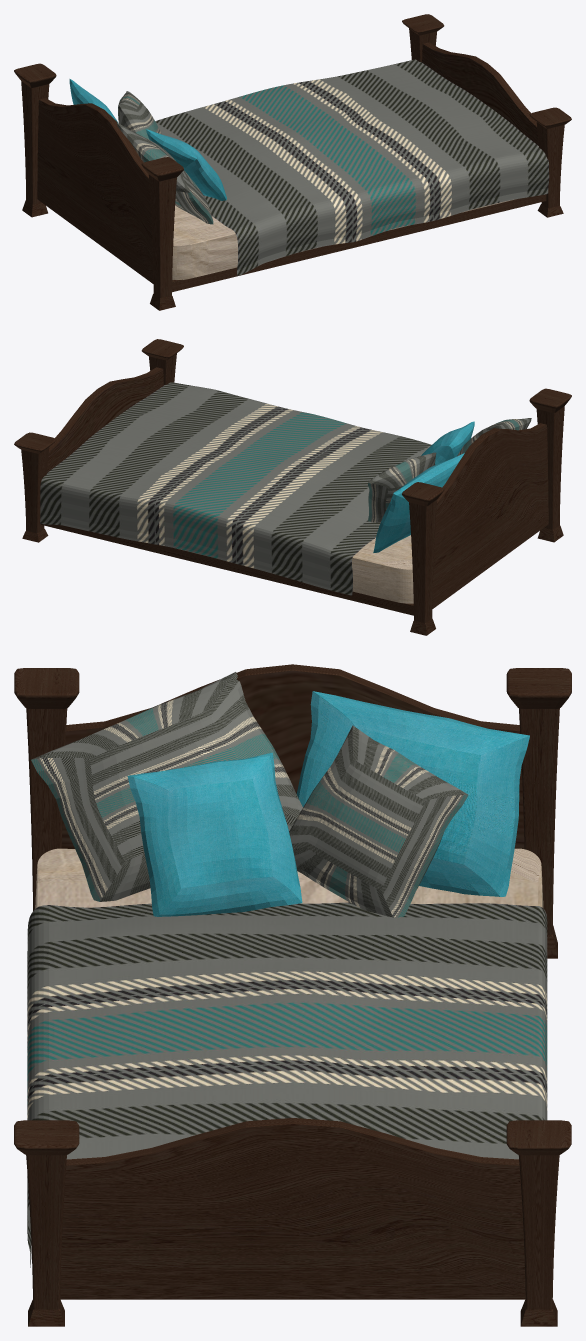
File: cama.obj
The picture shows the model from 3 angles, top to bottom: view 1: azimuth 30°, elevation 25°; view 2: azimuth 150°, elevation 25°; view 3: azimuth 270°, elevation 25°; orthographic projection. The views are drawn at different scales.
Visible parts, largest first — view 1: Plano, cabeza_Cubo.002, pies_Cubo, colchon_Cubo.001, Cilindro.003_Cilindro.006, base_Cube, Cilindro.004_Cilindro.007, Cilindro.001, Cubo.003_Cubo.005, Cubo.002_Cubo.004, Cubo.004_Cubo.007, Cilindro.002_Cilindro.005 (+1 smaller); view 2: Plano, cabeza_Cubo.002, pies_Cubo, Cilindro.004_Cilindro.007, colchon_Cubo.001, base_Cube, Cilindro.003_Cilindro.006, Cilindro.002_Cilindro.005, Cubo.001_Cubo.006, Cubo.004_Cubo.007, Cilindro.001, Cubo.002_Cubo.004 (+1 smaller); view 3: Plano, pies_Cubo, Cubo.003_Cubo.005, Cubo.002_Cubo.004, Cubo.004_Cubo.007, Cubo.001_Cubo.006, cabeza_Cubo.002, Cilindro.004_Cilindro.007, Cilindro.002_Cilindro.005, Cilindro.001, colchon_Cubo.001, Cilindro.003_Cilindro.006.
Boxes of the visible parts, <box> form: Plano: <box>155,59,549,275</box>; cabeza_Cubo.002: <box>37,98,153,283</box>; pies_Cubo: <box>422,42,538,145</box>; colchon_Cubo.001: <box>172,199,514,279</box>; Cilindro.003_Cilindro.006: <box>141,157,183,310</box>; base_Cube: <box>172,194,546,292</box>; Cilindro.004_Cilindro.007: <box>14,63,56,217</box>; Cilindro.001: <box>529,107,571,217</box>; Cubo.003_Cubo.005: <box>117,123,213,224</box>; Cubo.002_Cubo.004: <box>146,129,226,200</box>; Cubo.004_Cubo.007: <box>118,91,161,139</box>; Cilindro.002_Cilindro.005: <box>402,14,444,62</box>; Plano: <box>40,382,431,595</box>; cabeza_Cubo.002: <box>432,423,548,608</box>; pies_Cubo: <box>47,367,163,472</box>; Cilindro.004_Cilindro.007: <box>402,482,444,635</box>; colchon_Cubo.001: <box>177,535,413,603</box>; base_Cube: <box>41,524,413,615</box>; Cilindro.003_Cilindro.006: <box>529,388,571,542</box>; Cilindro.002_Cilindro.005: <box>14,432,56,542</box>; Cubo.001_Cubo.006: <box>373,453,464,552</box>; Cubo.004_Cubo.007: <box>368,452,436,522</box>; Cilindro.001: <box>141,339,183,385</box>; Cubo.002_Cubo.004: <box>421,421,474,464</box>; Plano: <box>27,902,547,1267</box>; pies_Cubo: <box>60,1118,525,1299</box>; Cubo.003_Cubo.005: <box>31,672,302,901</box>; Cubo.002_Cubo.004: <box>127,752,302,916</box>; Cubo.004_Cubo.007: <box>289,725,468,917</box>; Cubo.001_Cubo.006: <box>296,691,529,896</box>; cabeza_Cubo.002: <box>61,664,524,849</box>; Cilindro.004_Cilindro.007: <box>506,668,571,958</box>; Cilindro.002_Cilindro.005: <box>506,1120,571,1326</box>; Cilindro.001: <box>14,1120,79,1326</box>; colchon_Cubo.001: <box>35,848,543,908</box>; Cilindro.003_Cilindro.006: <box>14,668,79,910</box>.
Size of the model in its own units: 4.56 by 1.56 by 2.74.
Materials: 13 (13 with a texture image).
